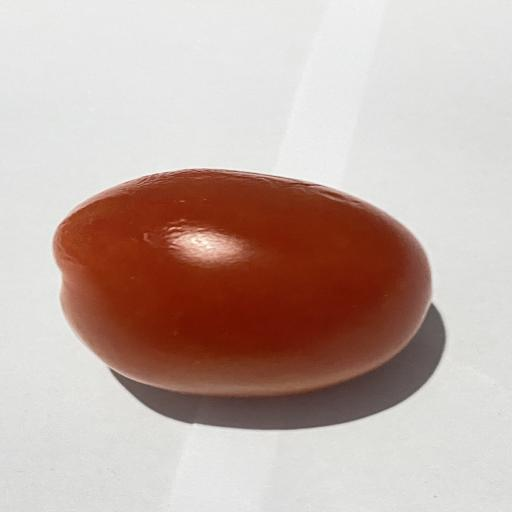overipe: (54, 169, 431, 396)
